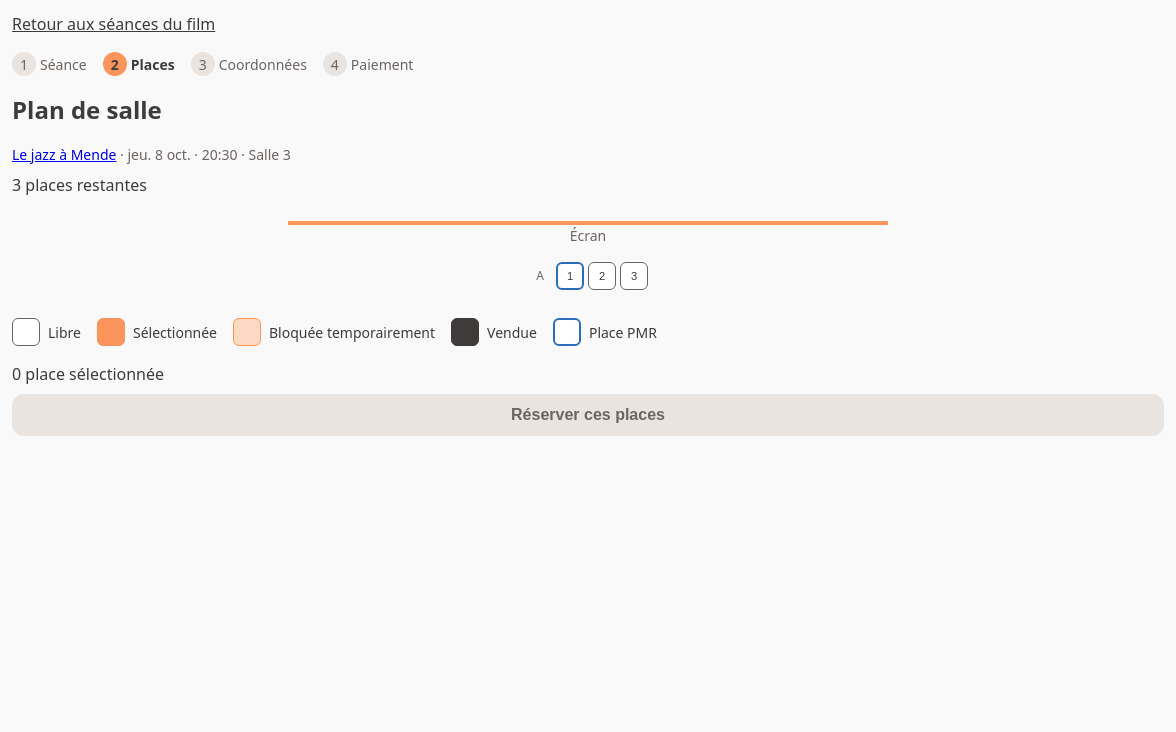
Test case: SeatMapPage (US 2.2) › affiche un message et rafraîchit le plan si une place est prise
The image size is (1176, 732).
Click the button named "A1 libre": (570, 276) [556,262,584,290]
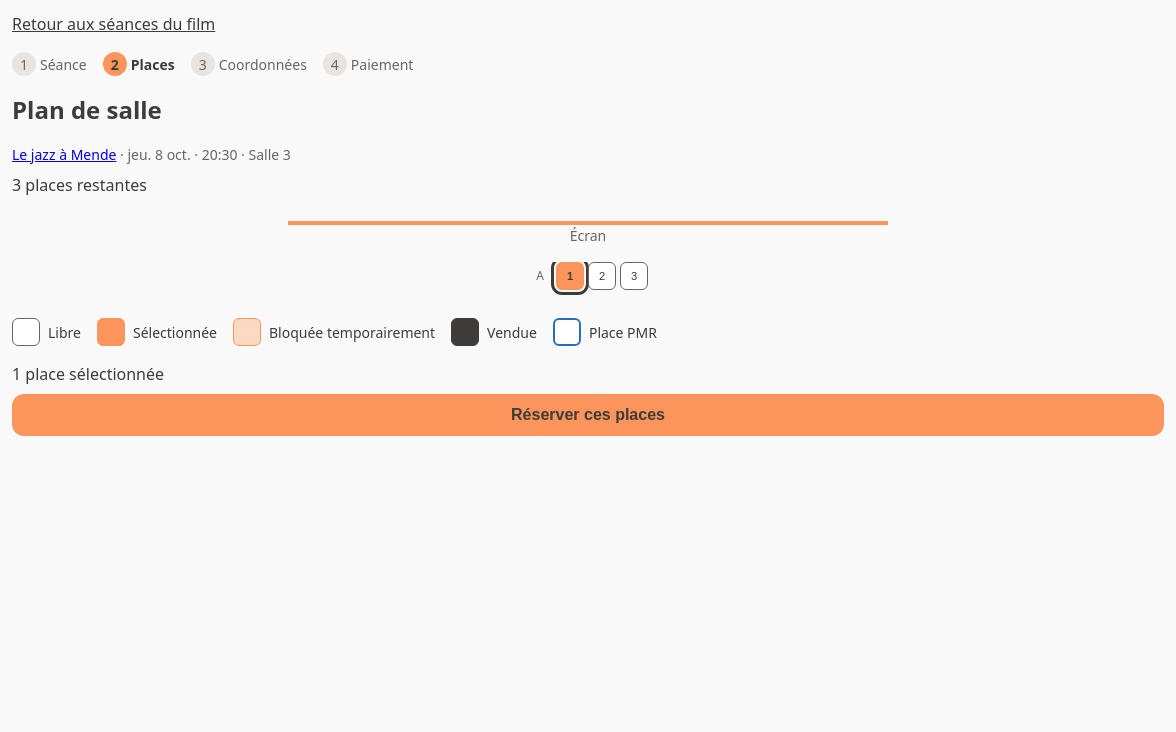
Click the button "Réserver ces places": (588, 415) [12,394,1164,436]
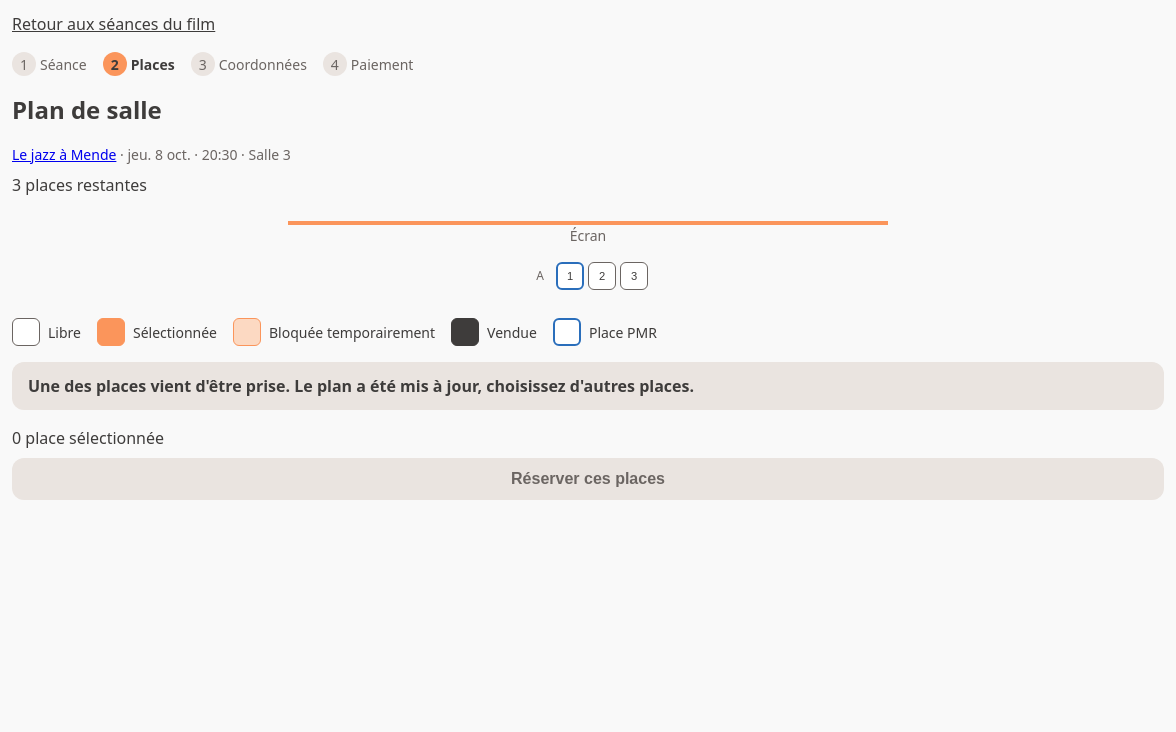
Expected: the text "Une des places vient d'être prise. Le plan a été mis à jour, choisissez d'autres places." is shown, [28,375,694,397]
